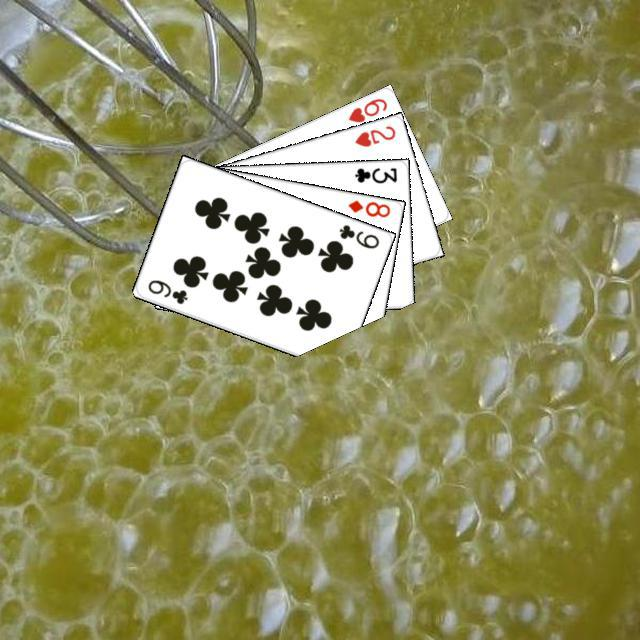2h: (350, 121, 397, 149)
3c: (350, 163, 398, 185)
6h: (343, 93, 389, 124)
8d: (343, 195, 392, 219)
9c: (143, 275, 189, 306), (334, 220, 381, 250)
